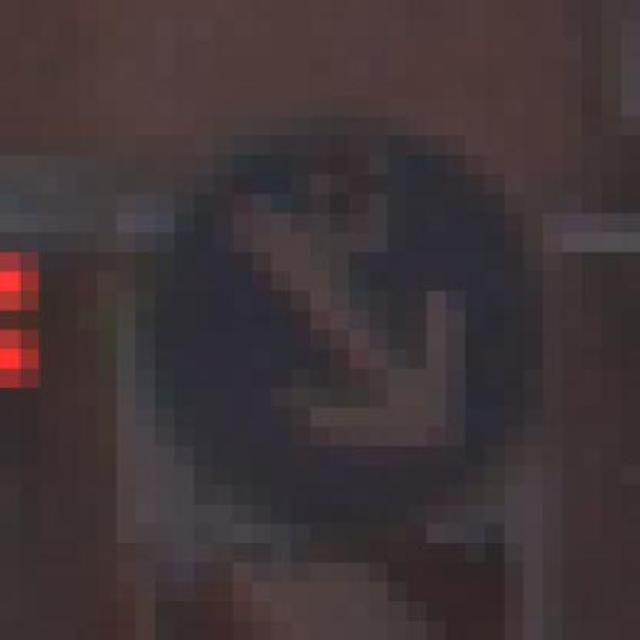Keep-Right: (116, 97, 562, 563)
